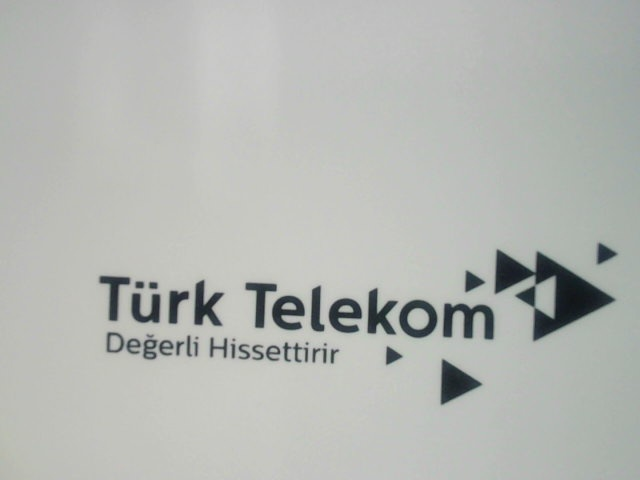AQ_TURKTelekom: (83, 237, 633, 407)
